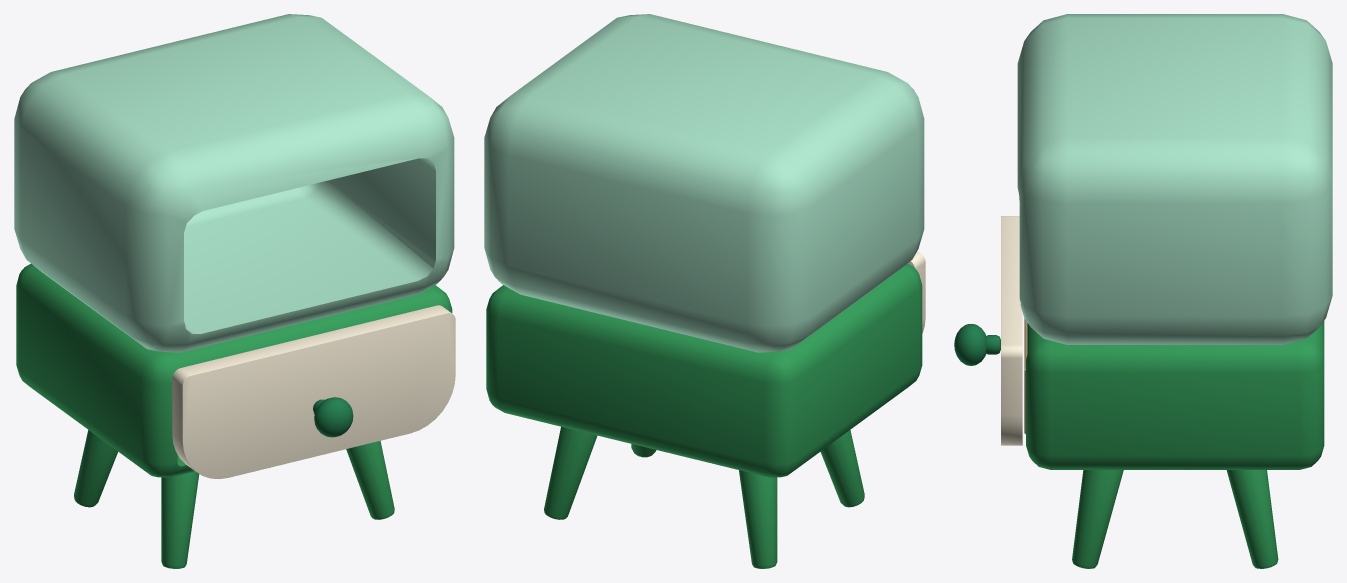
File: criado_bicolor_menta.glb
3 renders of one model, left to right at view 1: azimuth 30°, elevation 25°; view 2: azimuth 150°, elevation 25°; view 3: azimuth 270°, elevation 25°, orthographic. The views are drawn at different scales.
Visible parts, largest first — view 1: criado_bicolor_menta, gaveta_1; view 2: criado_bicolor_menta; view 3: criado_bicolor_menta, gaveta_1.
Part boxes in pixels (box(x1,y1,x2,y2)): criado_bicolor_menta: box(14, 14, 454, 568); gaveta_1: box(172, 305, 455, 478); criado_bicolor_menta: box(484, 14, 924, 568); criado_bicolor_menta: box(1017, 14, 1332, 568); gaveta_1: box(954, 216, 1027, 445).
Size of the model in its own units: 0.46 by 0.5826 by 0.4564.
1 material, 1 textured.
